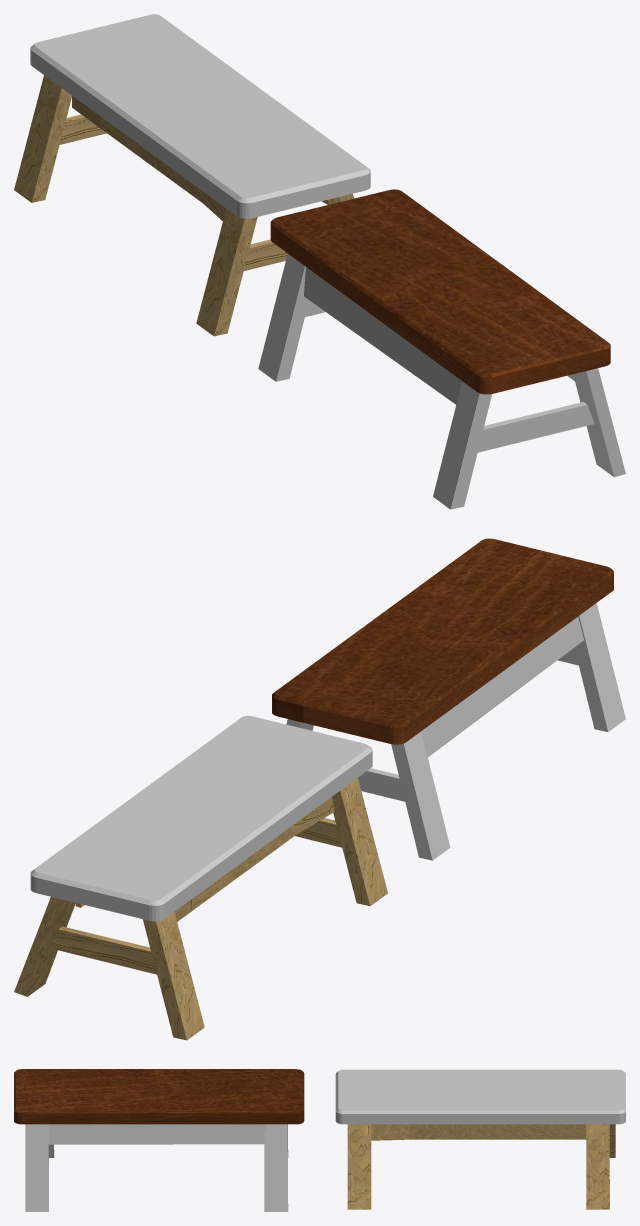
File: bankje.fbx
3 views of the same model, one above another, from view 1: azimuth 30°, elevation 25°; view 2: azimuth 150°, elevation 25°; view 3: azimuth 270°, elevation 25° (orthographic). The views are drawn at different scales.
Parts seen in each view (by area): view 1: Cube, Cube.020, Cube.011, Cube.013, Cube.009, Cube.015, Cube.006, Cube.010, Cube.021, Cube.003, Cube.012, Cube.019; view 2: Cube, Cube.020, Cube.011, Cube.015, Cube.006, Cube.013, Cube.009, Cube.019, Cube.017, Cube.003, Cube.001, Cube.012; view 3: Cube, Cube.020, Cube.007, Cube.014, Cube.018, Cube.021, Cube.004, Cube.017, Cube.015.
Part boxes in pixels (box(x1,y1,x2,y2)): Cube: box(270, 189, 610, 394); Cube.020: box(30, 14, 370, 218); Cube.011: box(304, 267, 462, 404); Cube.013: box(196, 209, 257, 336); Cube.009: box(433, 381, 491, 509); Cube.015: box(14, 75, 71, 202); Cube.006: box(258, 254, 308, 381); Cube.010: box(477, 402, 594, 452); Cube.021: box(573, 368, 625, 477); Cube.003: box(72, 96, 226, 220); Cube.012: box(244, 239, 287, 270); Cube.019: box(59, 114, 106, 144); Cube: box(272, 538, 613, 744); Cube.020: box(30, 715, 372, 921); Cube.011: box(421, 616, 583, 757); Cube.015: box(143, 912, 204, 1040); Cube.006: box(391, 731, 450, 860); Cube.013: box(332, 778, 387, 906); Cube.009: box(574, 603, 625, 731); Cube.019: box(51, 926, 156, 974); Cube.017: box(14, 897, 75, 996); Cube.003: box(174, 797, 334, 921); Cube.001: box(358, 768, 405, 801); Cube.012: box(295, 818, 341, 847); Cube: box(14, 1069, 304, 1124); Cube.020: box(335, 1069, 625, 1124); Cube.007: box(48, 1124, 266, 1144); Cube.014: box(371, 1124, 586, 1140); Cube.018: box(347, 1124, 371, 1209); Cube.021: box(25, 1124, 48, 1211); Cube.004: box(264, 1124, 288, 1211); Cube.017: box(586, 1124, 609, 1209); Cube.015: box(609, 1124, 615, 1157).
Bounding box in the file's own units: 172 × 131 × 771.
